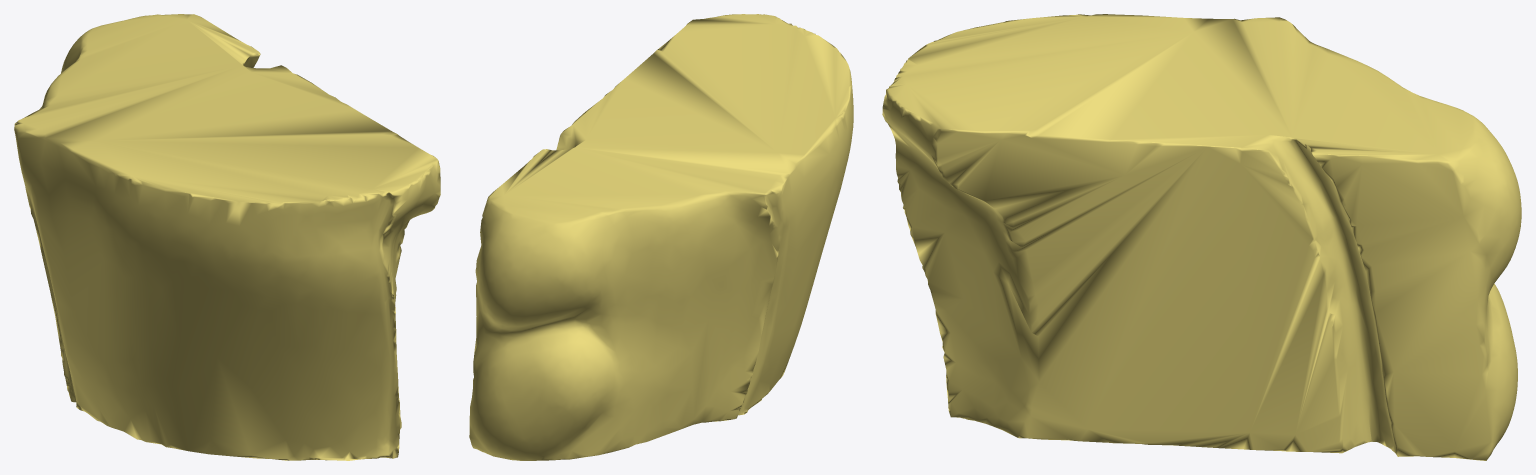
Rendered from midbrain-r.glb.
3 renders of one model, left to right at view 1: azimuth 30°, elevation 25°; view 2: azimuth 150°, elevation 25°; view 3: azimuth 270°, elevation 25°, orthographic. The views are drawn at different scales.
Visible parts, largest first — view 1: Midbrain.r; view 2: Midbrain.r; view 3: Midbrain.r.
Boxes of the visible parts, x1,y1,x2,y2 form: Midbrain.r: (14,14,440,460); Midbrain.r: (469,14,853,460); Midbrain.r: (882,14,1521,460).
Size of the model in its own units: 0.0143 by 0.0165 by 0.0285.
